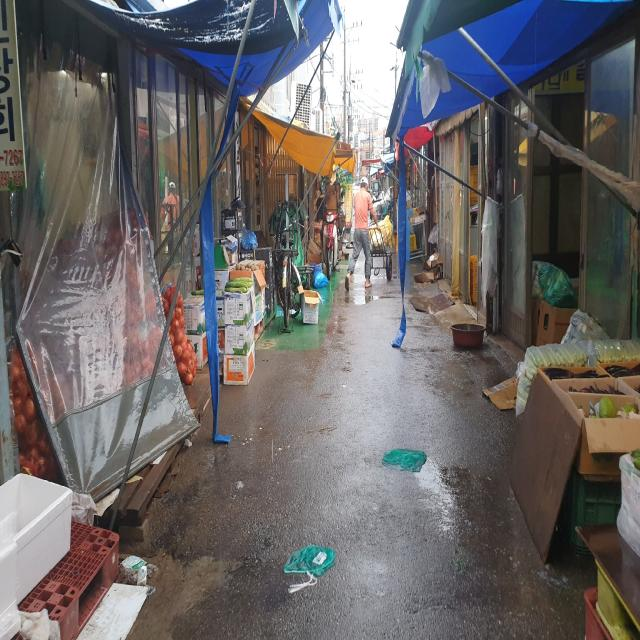motorbike: (323, 184, 345, 281)
